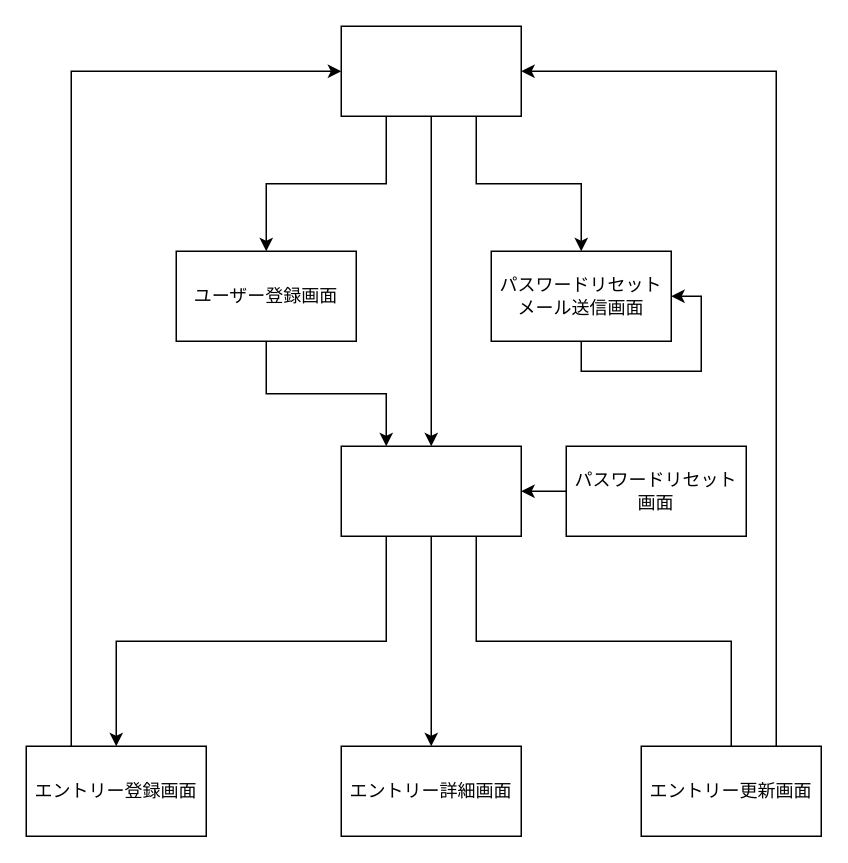
Image size: 848x863. Some labels were removed from this diagram. Here are the shapes that lost their labels. From the top down, the centre of each, then its label:
At point 430,70: "ログイン画面".
At point 430,490: "エントリー一覧画面".
